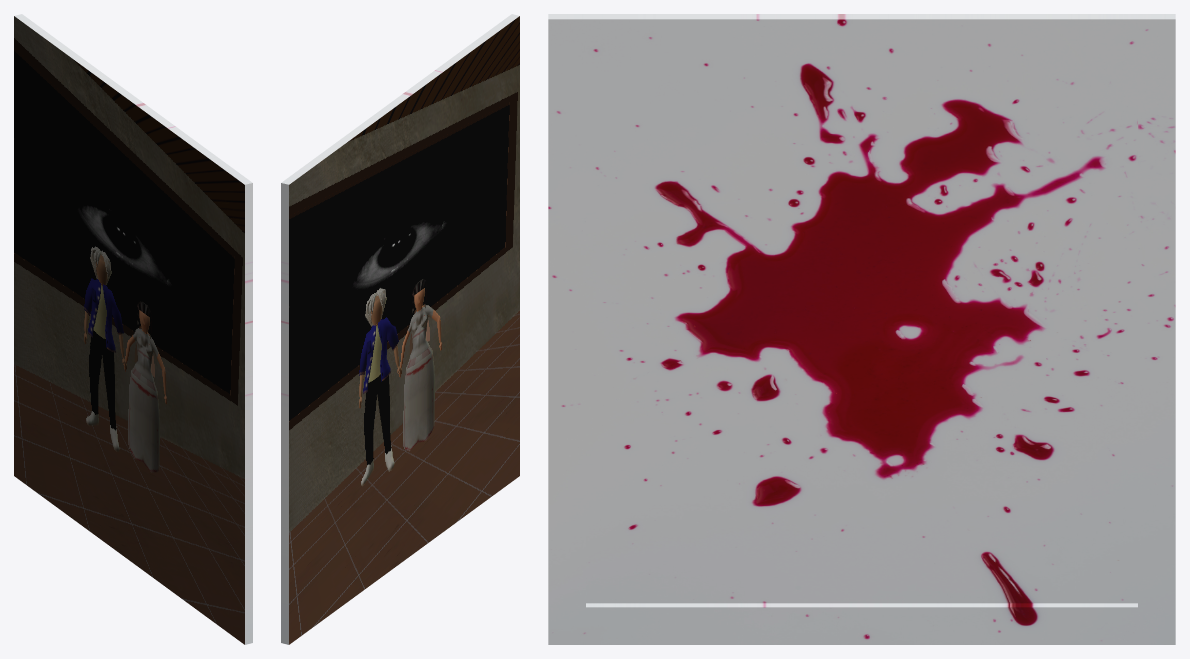
File: FotoFull.fbx
3 views of the same model, side by side, from view 1: azimuth 30°, elevation 25°; view 2: azimuth 150°, elevation 25°; view 3: azimuth 270°, elevation 25° (orthographic). The views are drawn at different scales.
Parts seen in each view (by area): view 1: FotoFull; view 2: FotoFull; view 3: FotoFull.
Boxes of the visible parts, x1,y1,x2,y2 form: FotoFull: [14, 14, 252, 644]; FotoFull: [281, 14, 519, 644]; FotoFull: [548, 14, 1175, 644].
Size of the model in its own units: 4 by 220 by 200.
